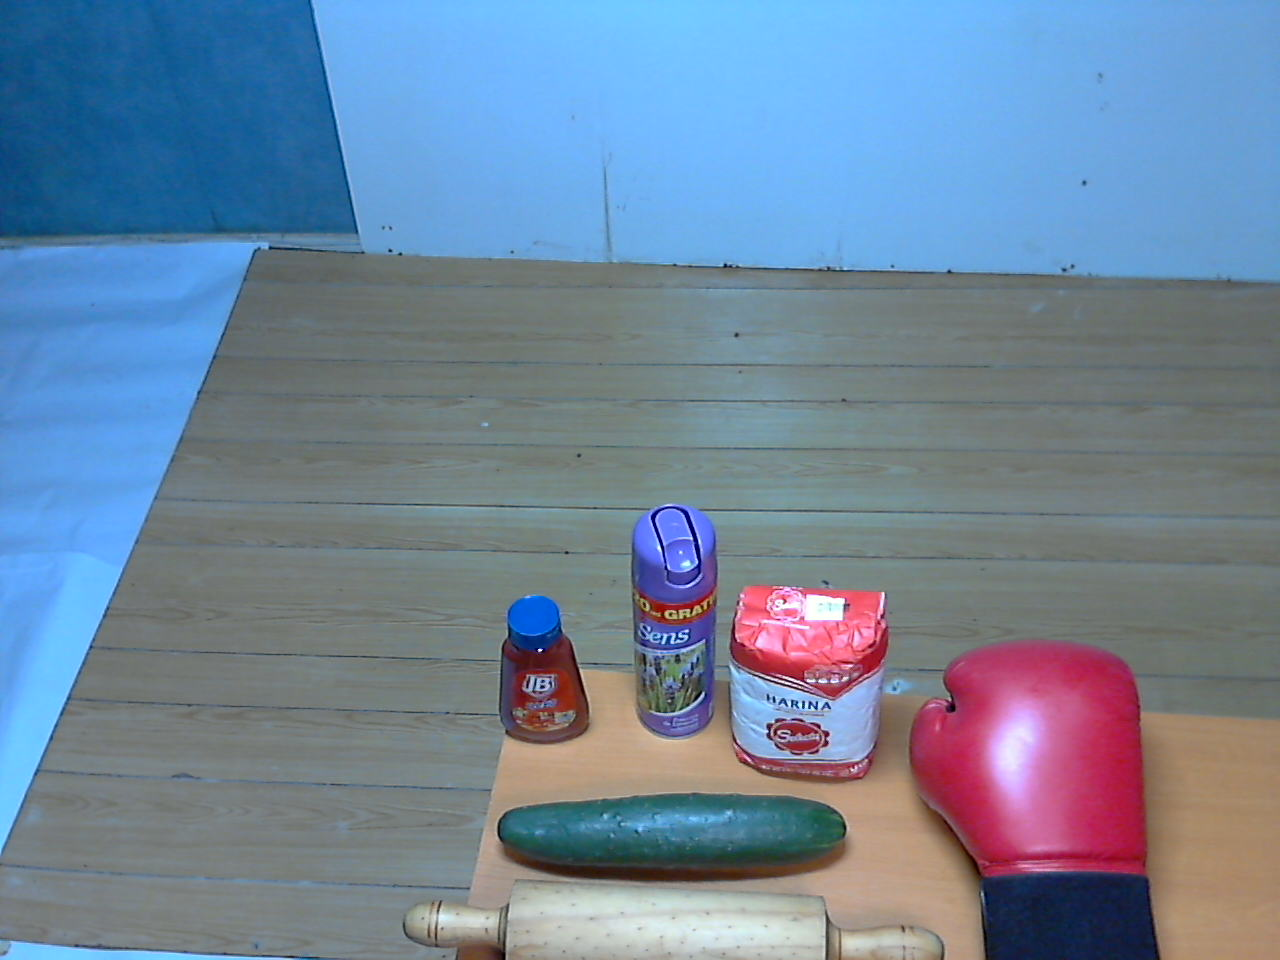aerosol: (620, 500, 729, 751)
guante: (896, 636, 1164, 960)
harina: (726, 577, 899, 791)
ketchup: (491, 586, 599, 754)
pepino: (494, 770, 863, 888)
uslero: (388, 867, 963, 957)
